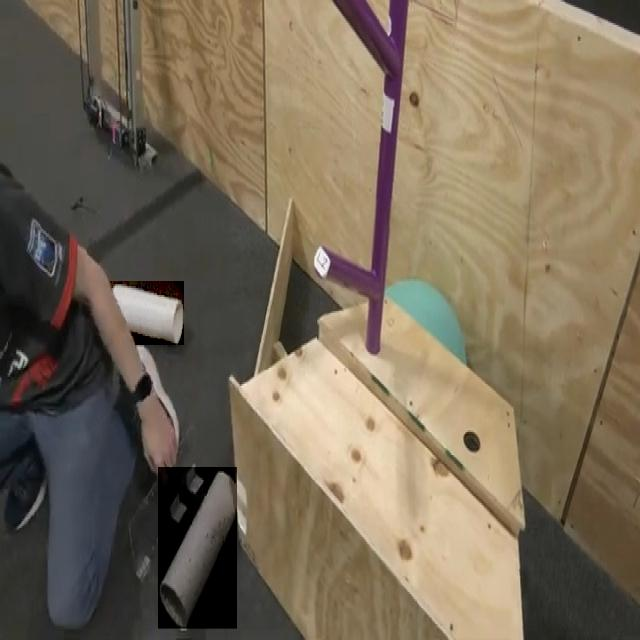Coral: (158, 468, 237, 630), (110, 281, 184, 345)
